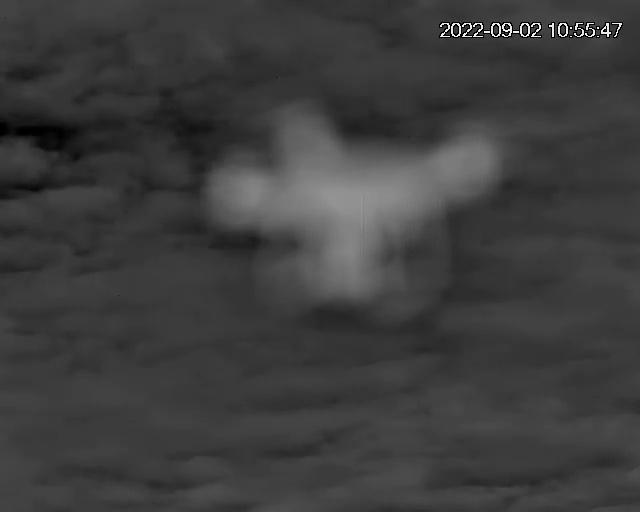DJI-Phantom: (204, 112, 499, 303)
